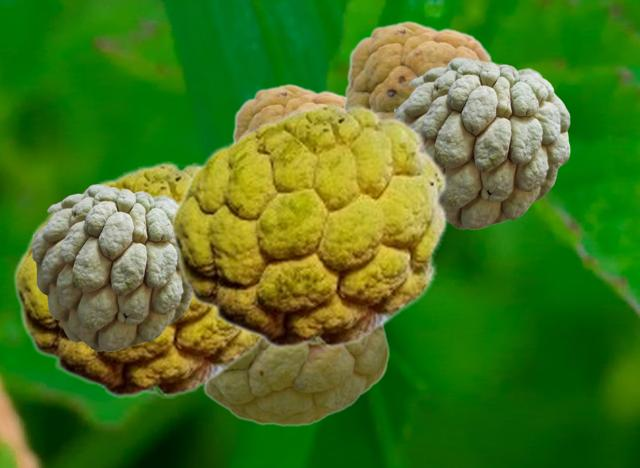atis: (169, 102, 447, 348), (12, 161, 263, 397), (393, 57, 569, 228), (31, 184, 191, 350), (202, 325, 388, 425), (343, 20, 504, 115), (231, 83, 343, 139)
